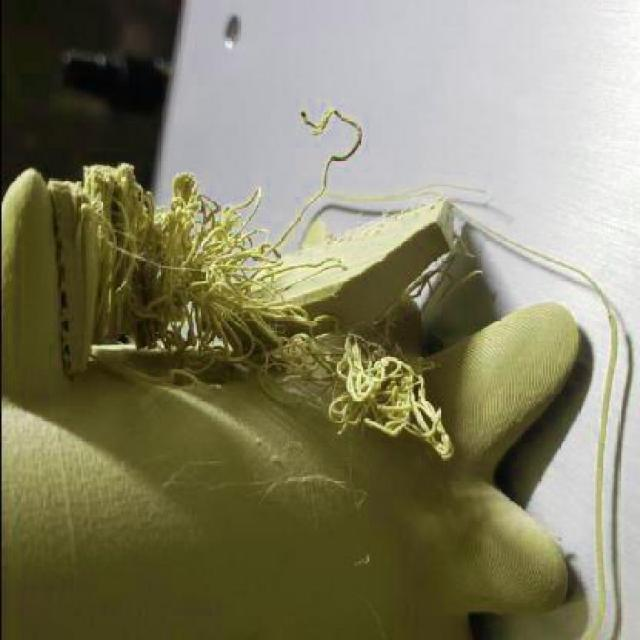spaghetti: (77, 162, 488, 459), (296, 107, 365, 164)
